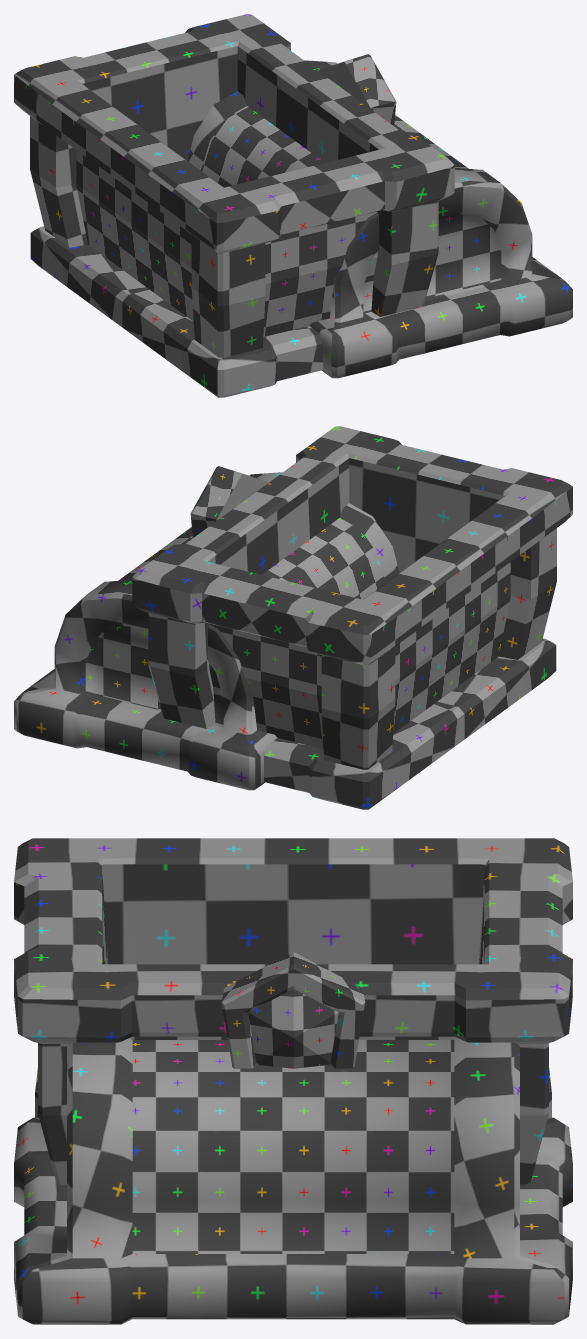
File: treasure_chest_2.glb
3 renders of one model, top to bottom at view 1: azimuth 30°, elevation 25°; view 2: azimuth 150°, elevation 25°; view 3: azimuth 270°, elevation 25°, orthographic. The views are drawn at different scales.
Visible parts, largest first — view 1: Cylinder, chest_lid; view 2: Cylinder, chest_lid; view 3: chest_lid, Cylinder.
Boxes of the visible parts, <box> form: Cylinder: <box>14,14,454,397</box>; chest_lid: <box>187,60,572,378</box>; Cylinder: <box>132,426,572,809</box>; chest_lid: <box>14,472,399,790</box>; chest_lid: <box>14,1038,572,1324</box>; Cylinder: <box>14,838,572,1184</box>.
Bounding box in the file's own units: 3.14 × 1.84 × 3.15.
1 material, 1 textured.
